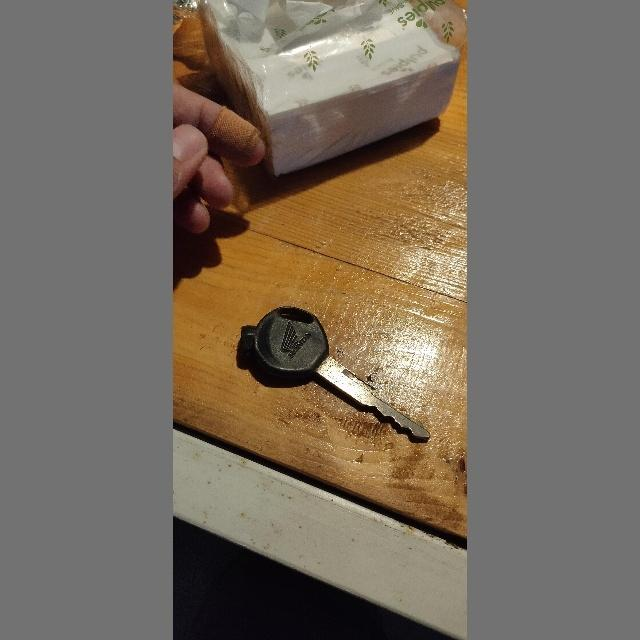Keys: (230, 298, 440, 447)
